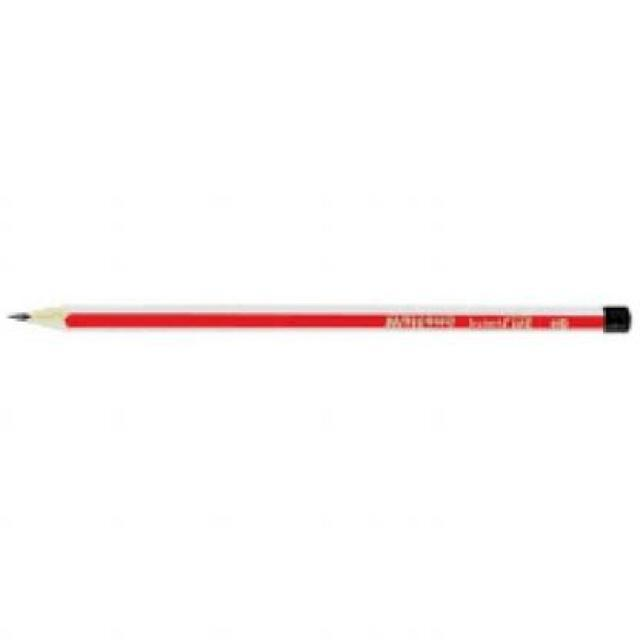pencil: (3, 290, 94, 359)
